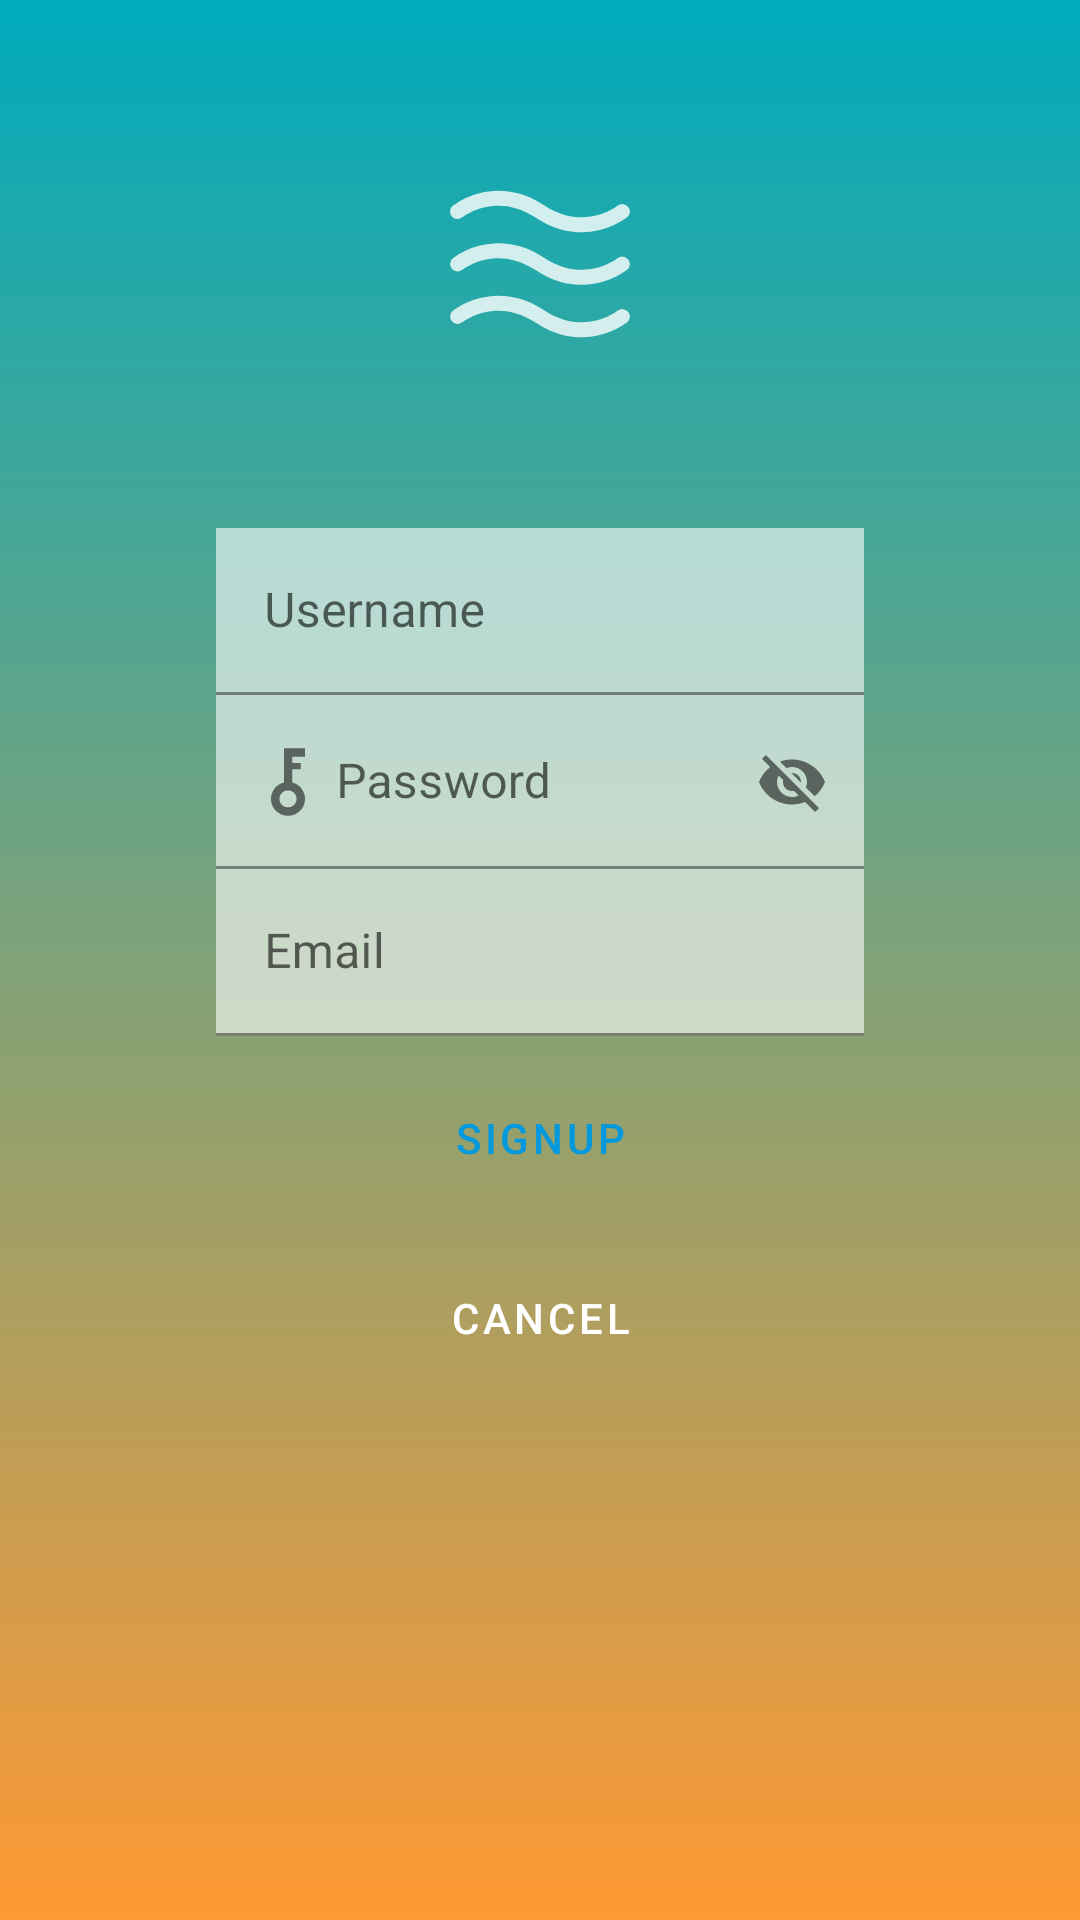

Named icons in this screenshot (1080 x 1920) and their bounding boxes, [left=x1, top=y1, right=x2, bottom=y2]:
wave: [left=420, top=190, right=660, bottom=384]
